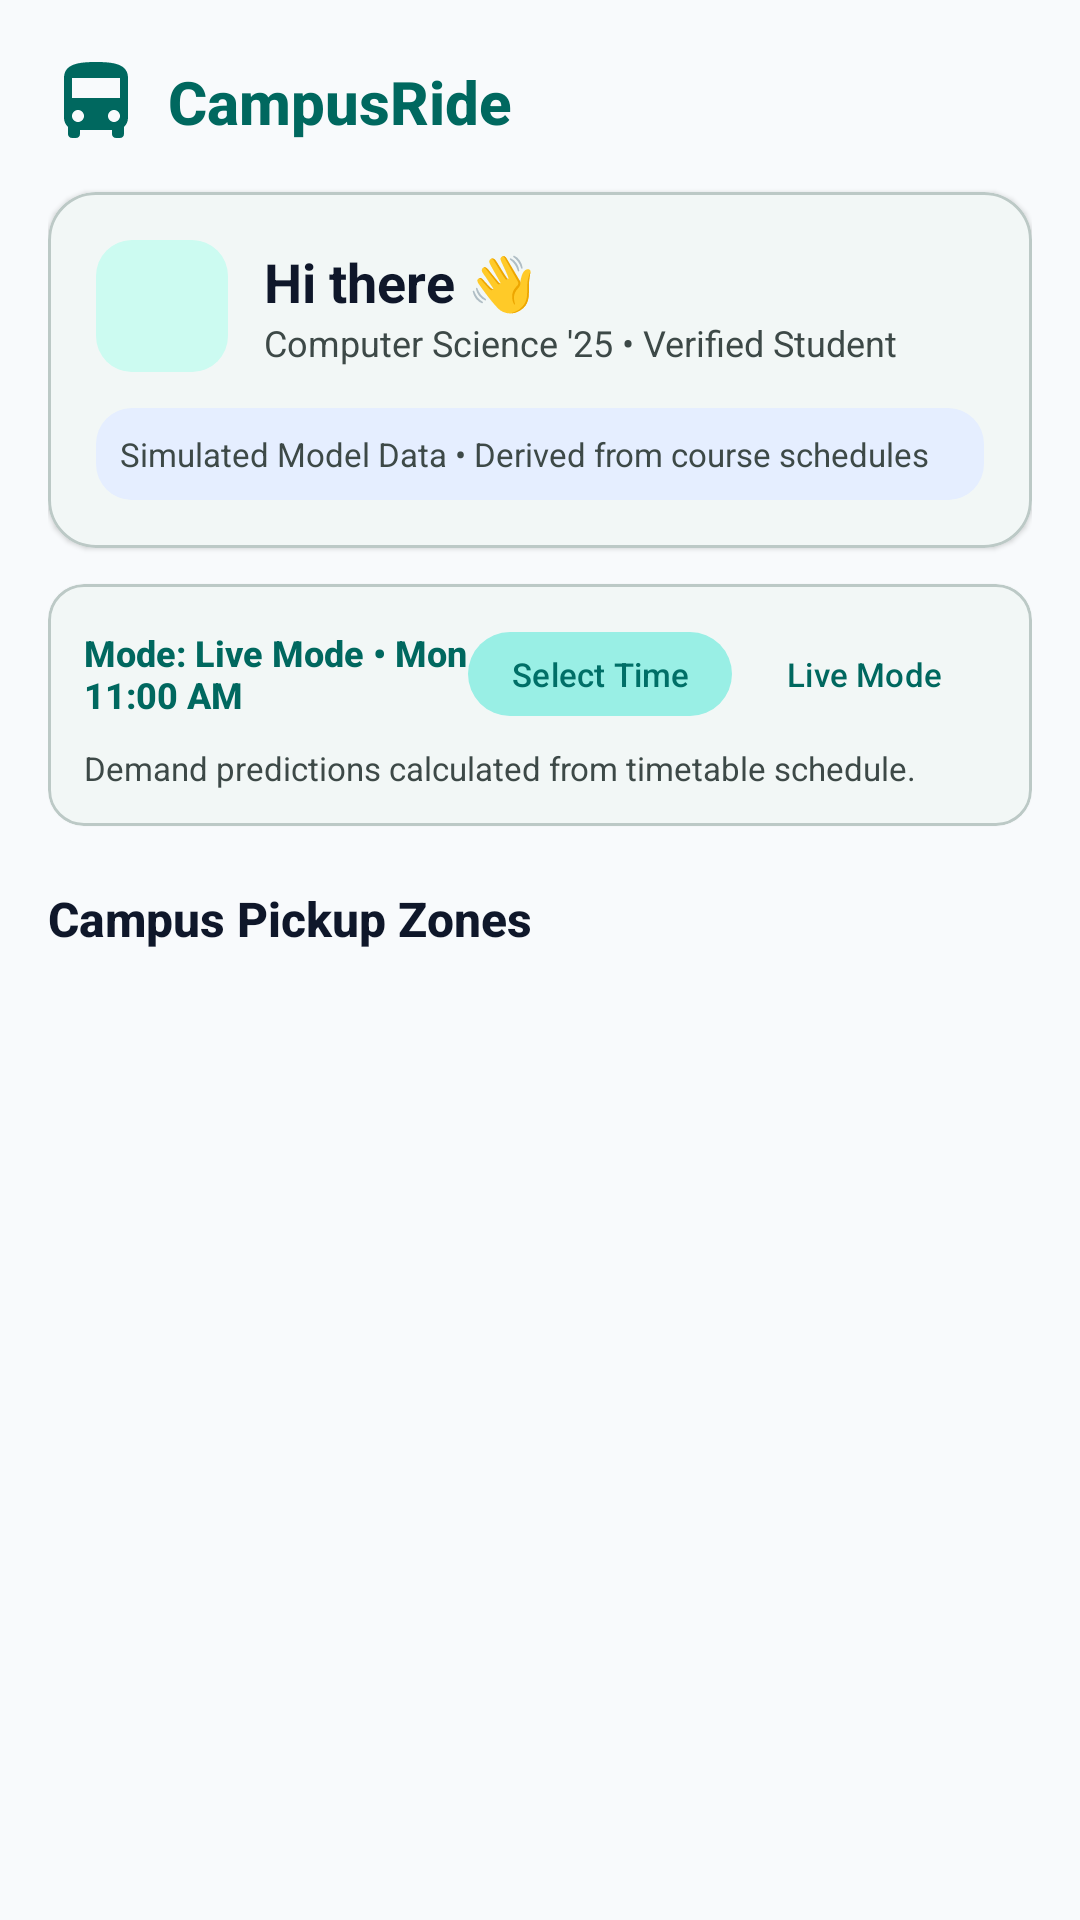

Icon click points for this 1080px×1920px phone screenshot, format point (x, y):
directions bus: point (96, 100)
